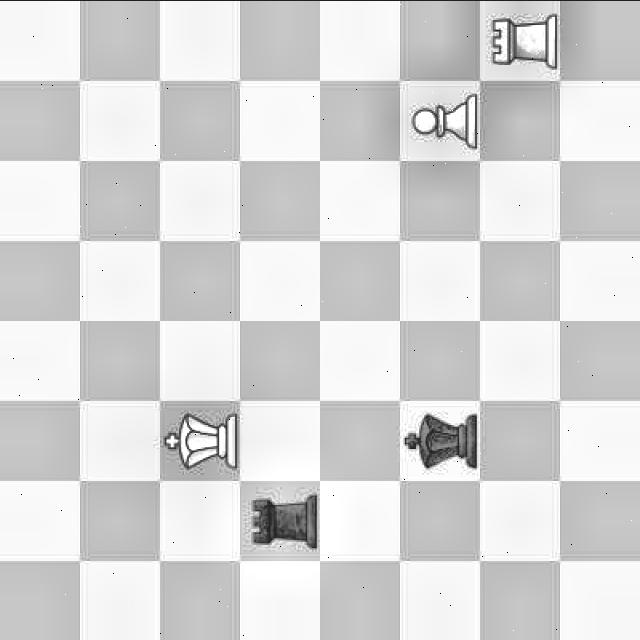black king: (402, 402, 472, 474)
black rook: (242, 477, 314, 549)
white king: (163, 404, 236, 482)
white pawn: (403, 84, 479, 154)
white rook: (485, 7, 556, 76)
